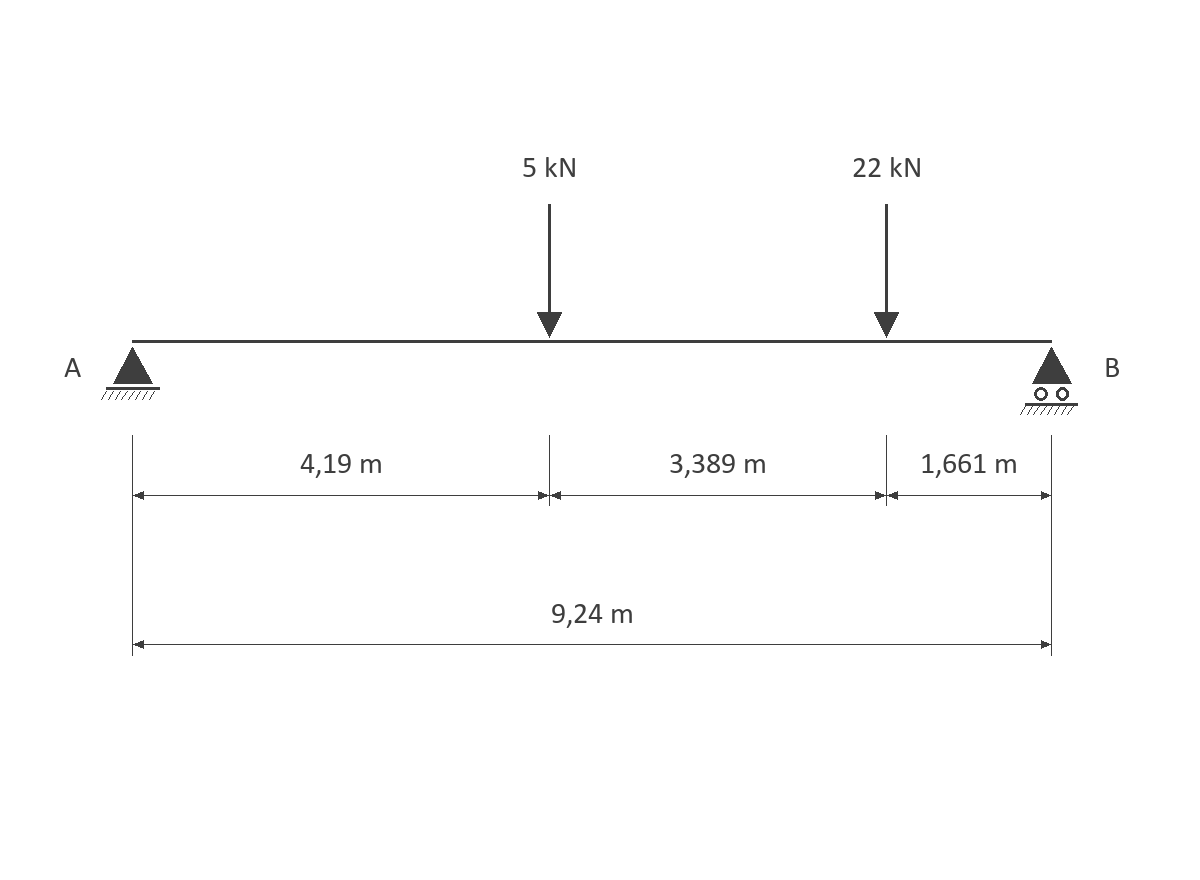pin_support: (101, 347, 160, 400)
point_load: (537, 204, 562, 338), (874, 204, 899, 338)
roller_support: (1020, 347, 1078, 415)
